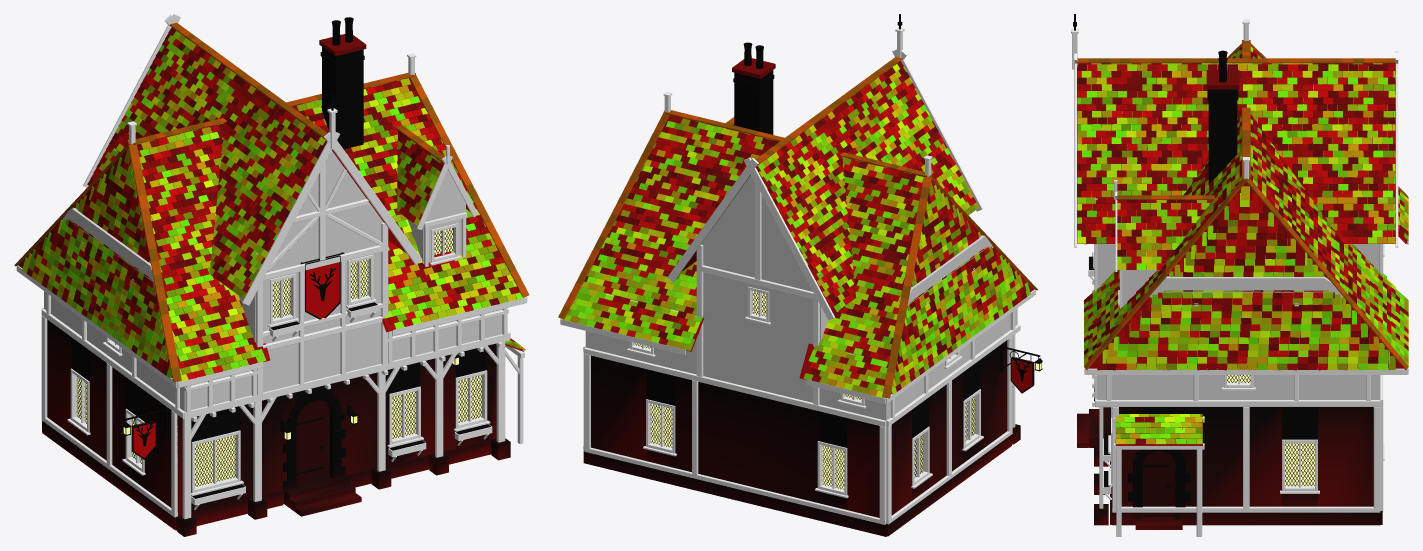
File: SilverbrookGoldenStagInn.fbx
3 views of the same model, side by side, from view 1: azimuth 30°, elevation 25°; view 2: azimuth 150°, elevation 25°; view 3: azimuth 270°, elevation 25° (orthographic). The views are drawn at different scales.
Visible parts, largest first — view 1: SM_SBGoldenStagInn_Roof, SM_SBGoldenStagInn_Timber, SM_SBGoldenStagInn_Masonry, SM_SBGoldenStagInn_Plaster, SM_SBGoldenStagInn_Details; view 2: SM_SBGoldenStagInn_Roof, SM_SBGoldenStagInn_Masonry, SM_SBGoldenStagInn_Timber, SM_SBGoldenStagInn_Plaster, SM_SBGoldenStagInn_Details; view 3: SM_SBGoldenStagInn_Roof, SM_SBGoldenStagInn_Masonry, SM_SBGoldenStagInn_Timber, SM_SBGoldenStagInn_Plaster, SM_SBGoldenStagInn_Details.
Boxes of the visible parts, bbox=[...] form: SM_SBGoldenStagInn_Roof: bbox=[14, 22, 529, 381]; SM_SBGoldenStagInn_Timber: bbox=[16, 14, 527, 519]; SM_SBGoldenStagInn_Masonry: bbox=[42, 34, 510, 536]; SM_SBGoldenStagInn_Plaster: bbox=[44, 150, 502, 411]; SM_SBGoldenStagInn_Details: bbox=[76, 17, 490, 498]; SM_SBGoldenStagInn_Roof: bbox=[558, 56, 1037, 398]; SM_SBGoldenStagInn_Masonry: bbox=[583, 58, 1020, 536]; SM_SBGoldenStagInn_Timber: bbox=[560, 27, 1035, 524]; SM_SBGoldenStagInn_Plaster: bbox=[585, 175, 1017, 420]; SM_SBGoldenStagInn_Details: bbox=[634, 14, 1042, 489]; SM_SBGoldenStagInn_Roof: bbox=[1077, 40, 1408, 445]; SM_SBGoldenStagInn_Masonry: bbox=[1077, 70, 1382, 529]; SM_SBGoldenStagInn_Timber: bbox=[1071, 19, 1408, 536]; SM_SBGoldenStagInn_Plaster: bbox=[1097, 244, 1380, 399]; SM_SBGoldenStagInn_Details: bbox=[1073, 14, 1314, 517].
Bounding box in the file's own units: 1368 × 1378 × 1008.
